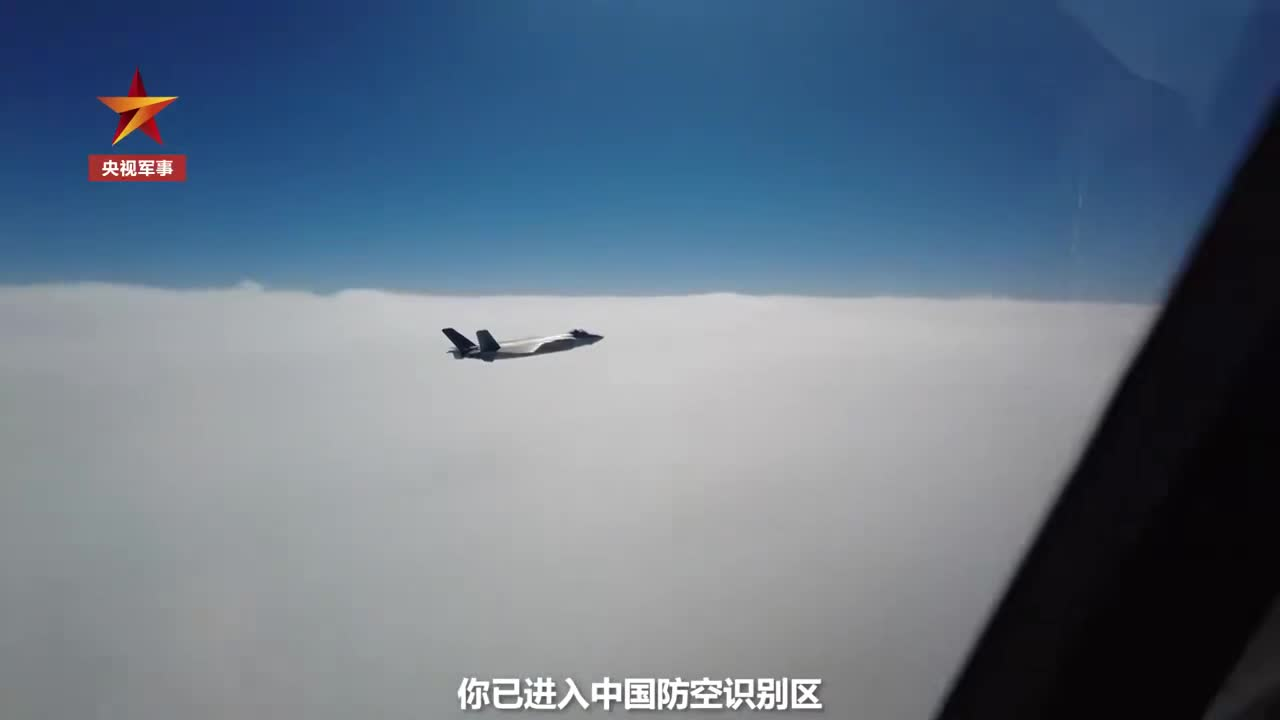J20: (441, 327, 605, 362)
